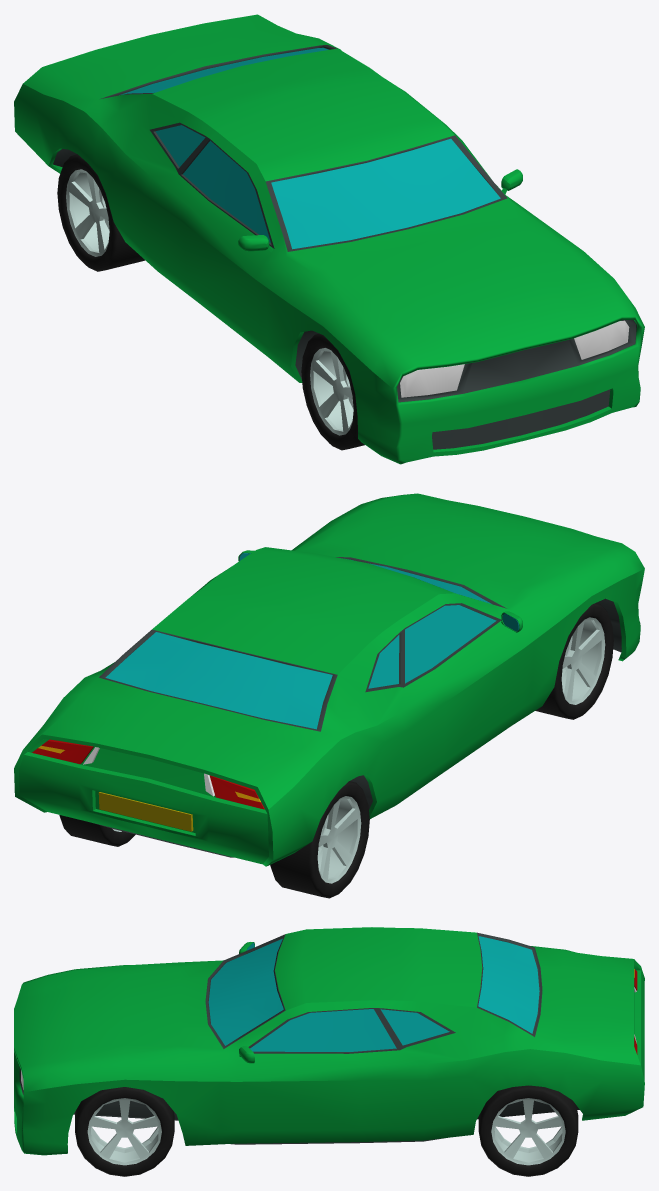
Rendered from MuscleCar.fbx.
3 views of the same model, one above another, from view 1: azimuth 30°, elevation 25°; view 2: azimuth 150°, elevation 25°; view 3: azimuth 270°, elevation 25° (orthographic). The views are drawn at different scales.
Parts seen in each view (by area): view 1: MuscleCar; view 2: MuscleCar; view 3: MuscleCar.
Boxes of the visible parts, x1,y1,x2,y2 form: MuscleCar: (14,14,644,464); MuscleCar: (14,493,644,898); MuscleCar: (14,927,644,1176).
Bounding box in the file's own units: 4.23 × 2.88 × 9.92.
